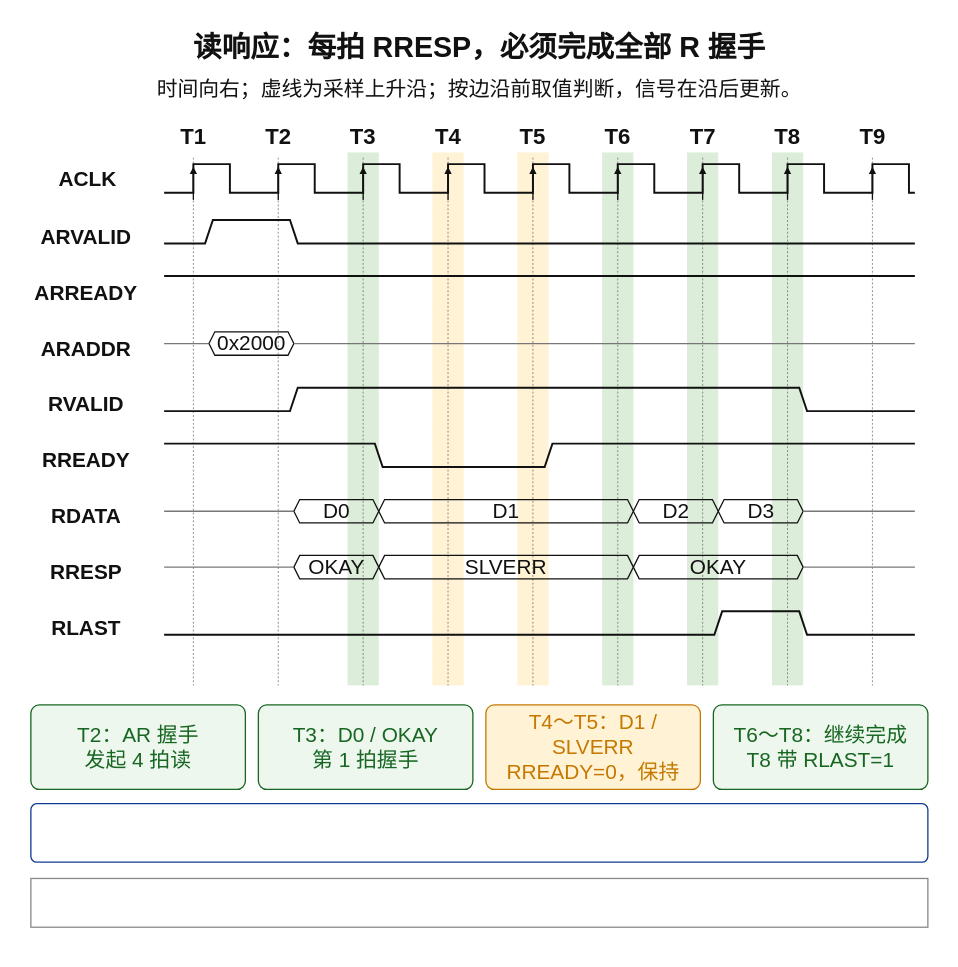
Image size: 958x967. Some labels were removed from this diagram. The box of each missing label's shape, as (x1, y1, x2, y2) in pixels:
ARLEN=3（4 拍）；RRESP=OKAY、SLVERR、OKAY、OKAY；T4/T5 发生反压；最终完成 4 次 R 握手。: (30, 878, 928, 928)
RRESP 随每个 R 数据拍返回；只在 RVALID 与 RREADY 同时为 1 的采样沿计数，错误不会取消剩余数据拍。: (30, 803, 928, 863)
